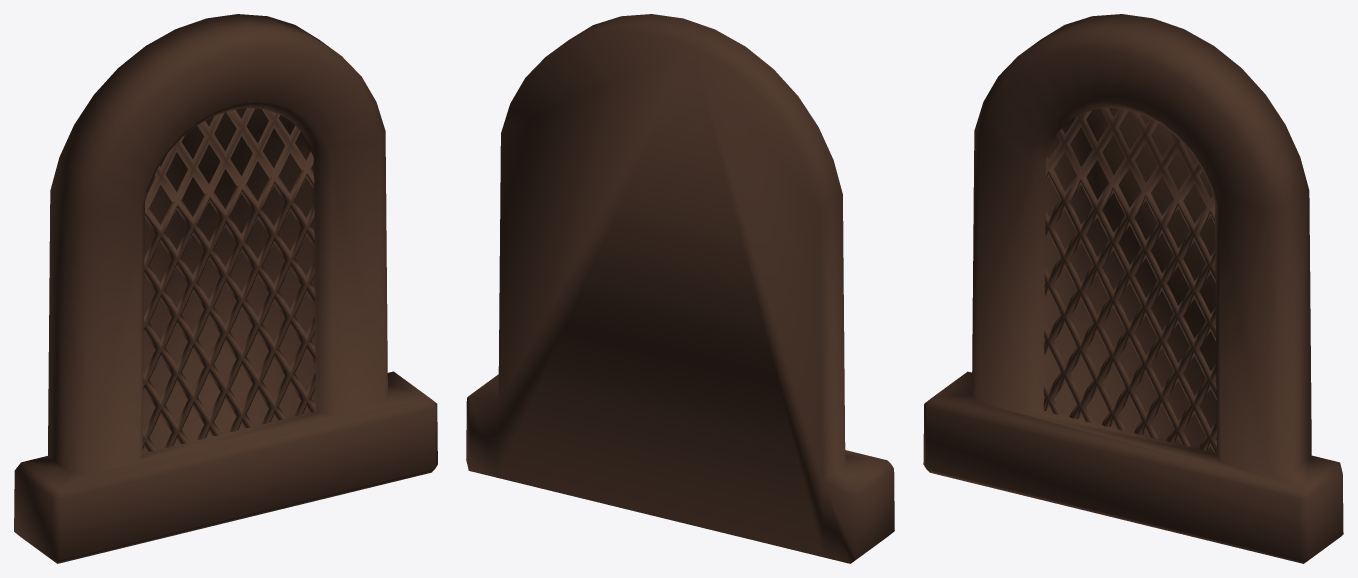
The model's file is Janela.fbx.
The picture shows the model from 3 angles, left to right: view 1: azimuth 30°, elevation 25°; view 2: azimuth 150°, elevation 25°; view 3: azimuth 330°, elevation 25°; orthographic projection. The views are drawn at different scales.
Visible parts, largest first — view 1: Plane; view 2: Plane; view 3: Plane.
Part boxes in pixels (bbox=[...]): Plane: bbox=[14, 14, 437, 563]; Plane: bbox=[466, 14, 894, 563]; Plane: bbox=[923, 14, 1343, 563].
Bounding box in the file's own units: 493 × 576 × 90.11.
